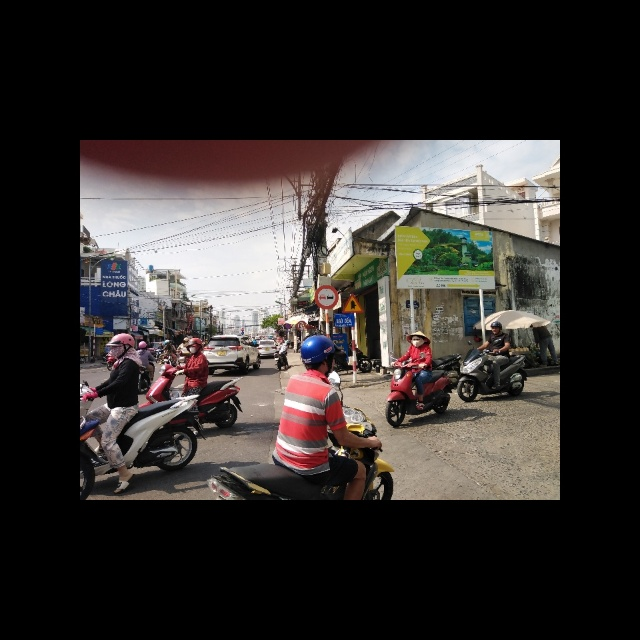Cấm vượt: (314, 284, 339, 309)
Giao nhau với đường không ưu tiên: (342, 292, 364, 314)
